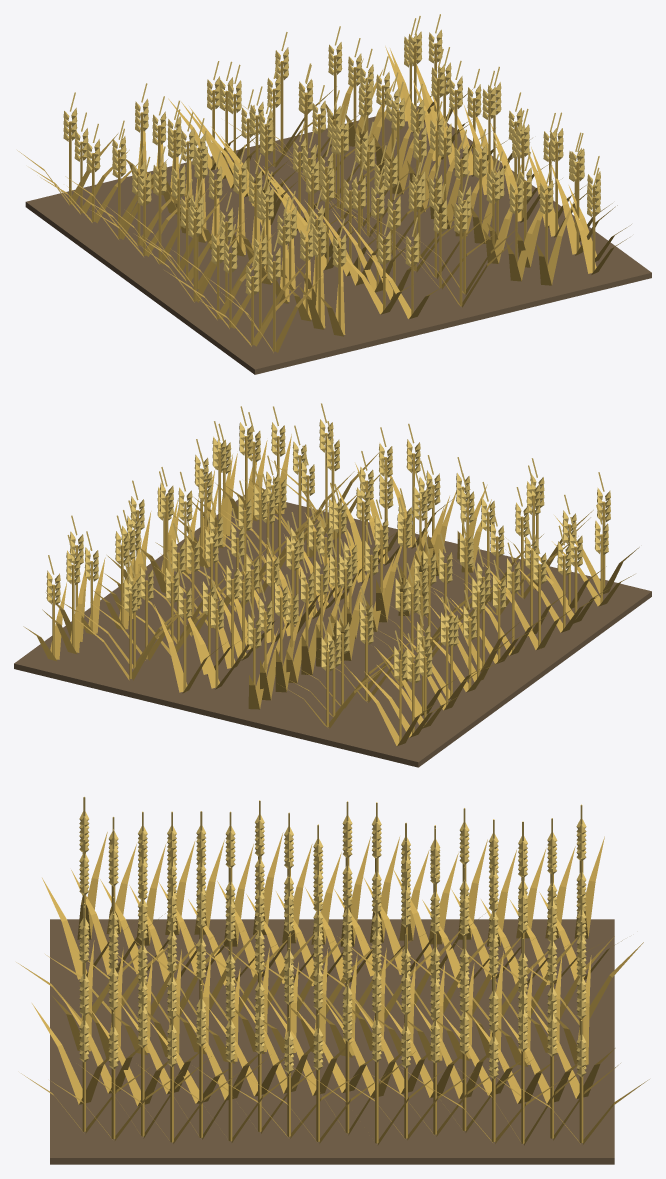
Rendered from wheat-field.glb.
3 views of the same model, one above another, from view 1: azimuth 30°, elevation 25°; view 2: azimuth 150°, elevation 25°; view 3: azimuth 270°, elevation 25° (orthographic). The views are drawn at different scales.
Visible parts, largest first — view 1: Static_mesh; view 2: Static_mesh; view 3: Static_mesh.
Part boxes in pixels (x1,y1,x2,y2): Static_mesh: [17, 14, 651, 374]; Static_mesh: [14, 403, 651, 767]; Static_mesh: [16, 796, 649, 1164].
Size of the model in its own units: 2.96 by 0.864 by 3.16.
